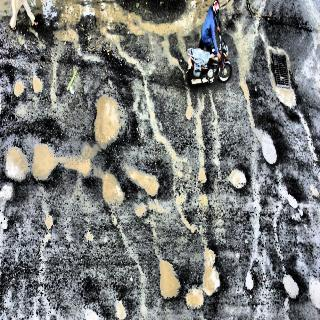pothole: (242, 105, 282, 180), (88, 78, 118, 153), (151, 248, 186, 310), (96, 166, 128, 220), (126, 156, 160, 204), (33, 136, 62, 192), (5, 134, 27, 192)
